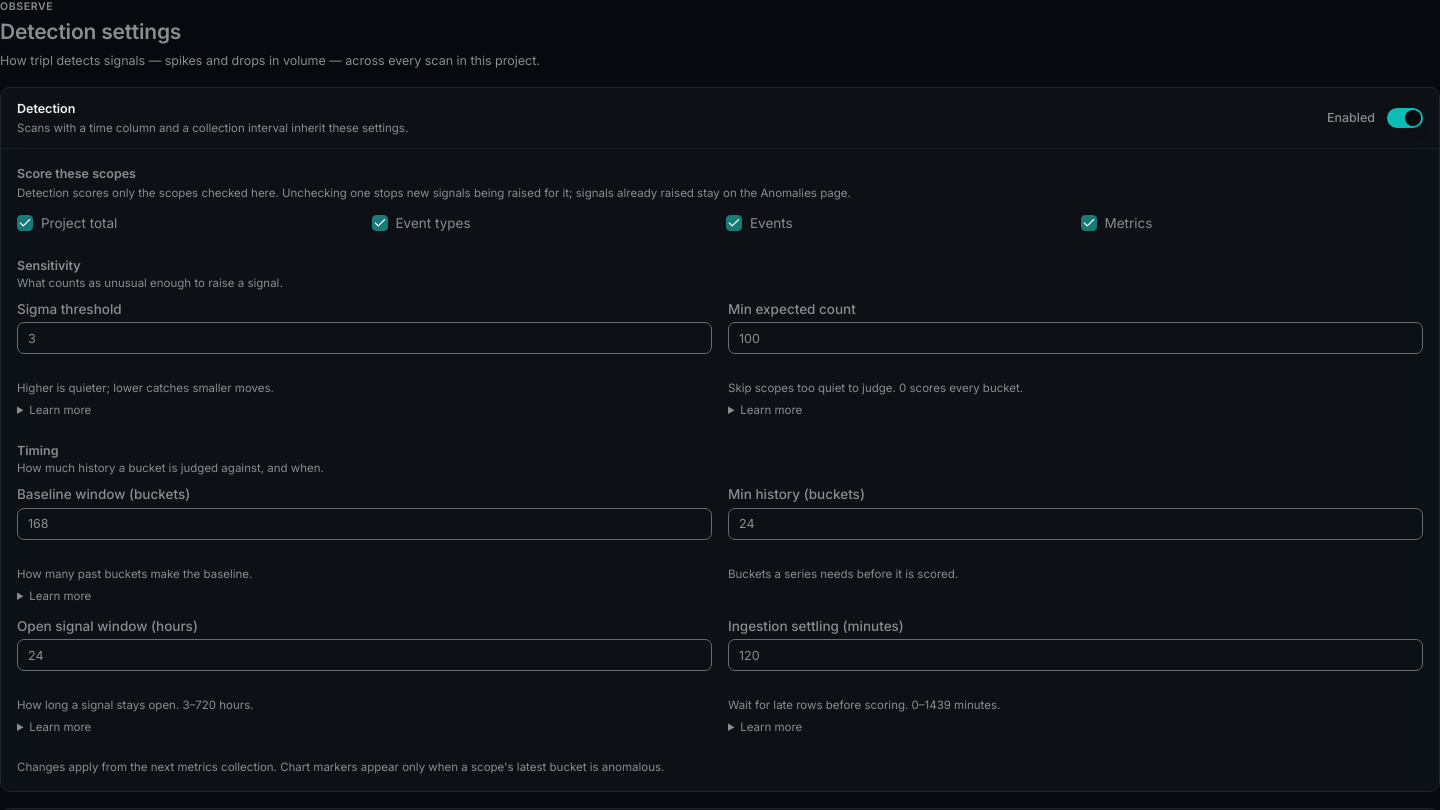
Test: MonitoringTab — settling allowance vs open signal window (tripl-l429.15) › refuses a value outside the bounds before sending it, and keeps it in view (PLAN-55, AL-44)
Replace the text in the number field labelled "Ingestion settling (minutes)" with "5000" at point(1076, 655), box x1=728 y1=639 x2=1423 y2=671
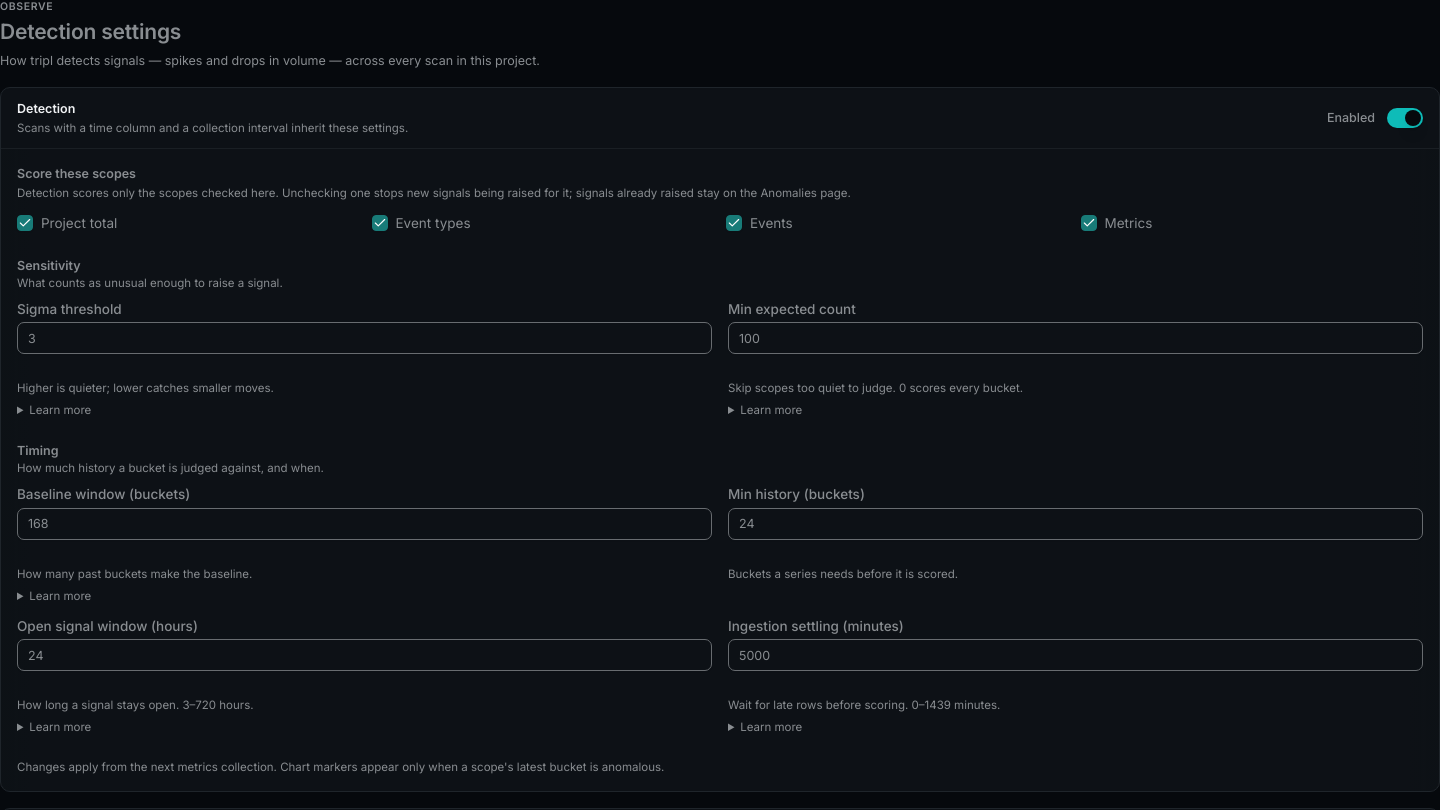
Leave the number field labelled "Ingestion settling (minutes)", box x1=728 y1=639 x2=1423 y2=671
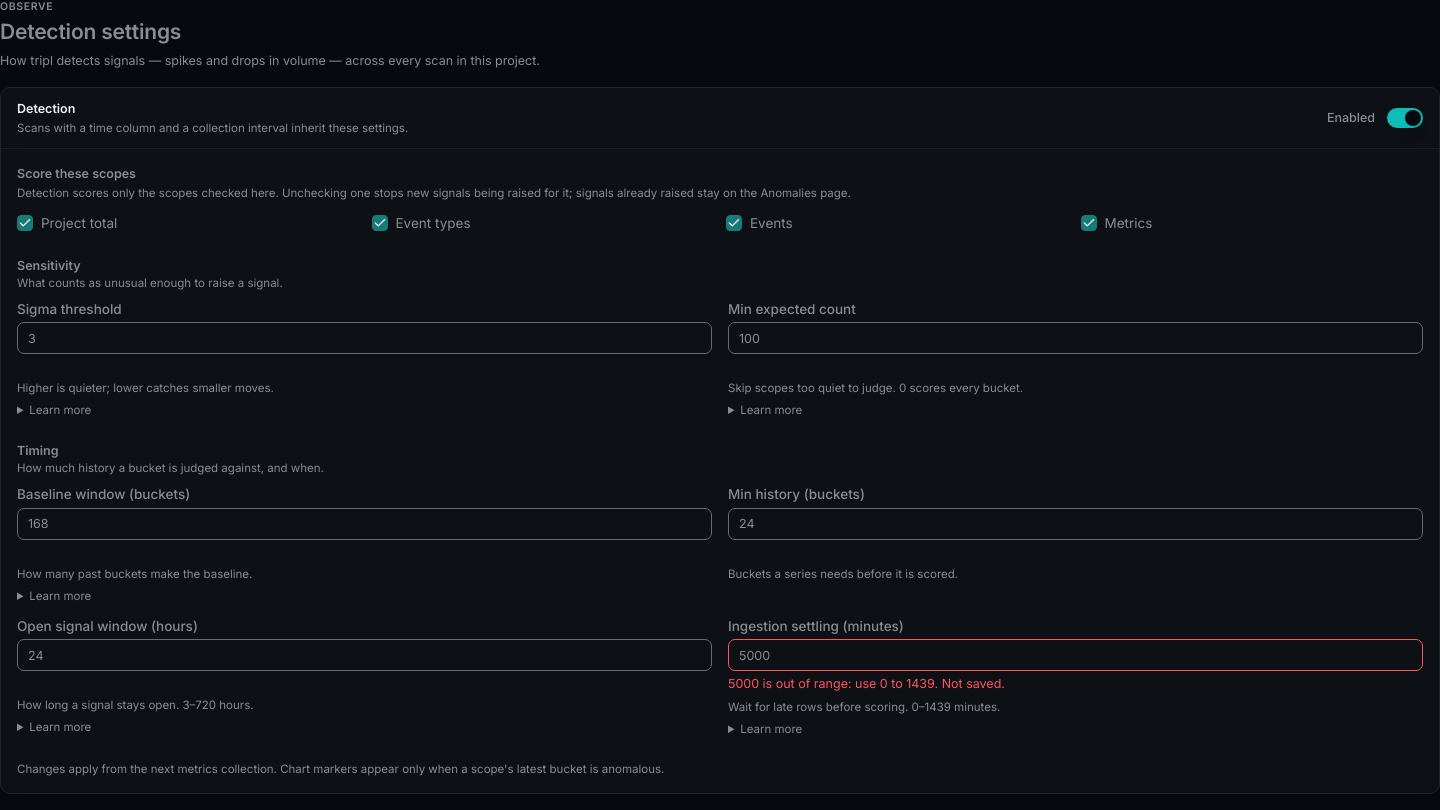
Expected: the text "5000 is out of range: use 0 to 1439. Not saved." is shown, x1=728 y1=676 x2=1005 y2=691
Typing a valid value clears the error at once.
Replace the text in the number field labelled "Ingestion settling (minutes)" with "60" at point(1076, 655), box x1=728 y1=639 x2=1423 y2=671
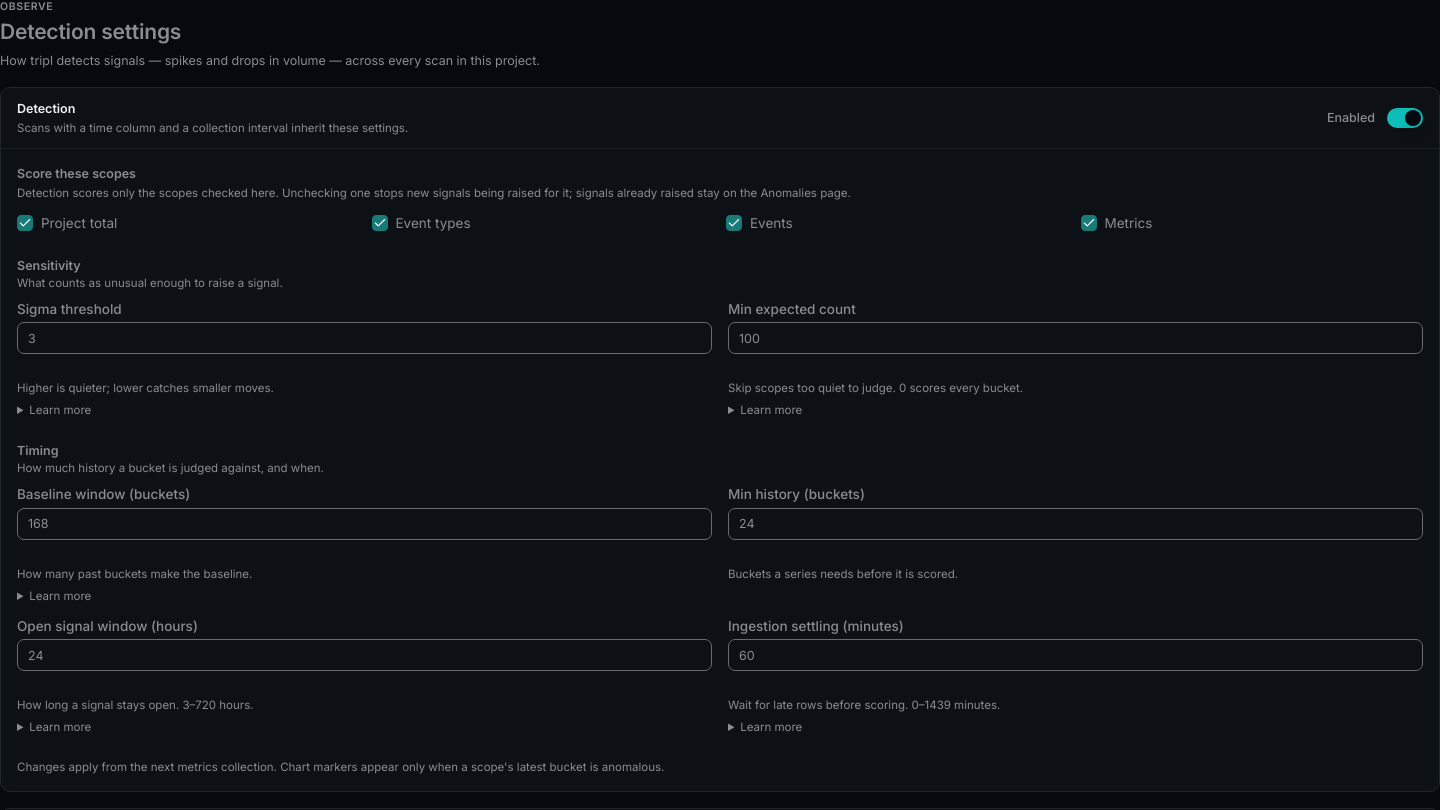
Expected: the text "out of range" is gone
